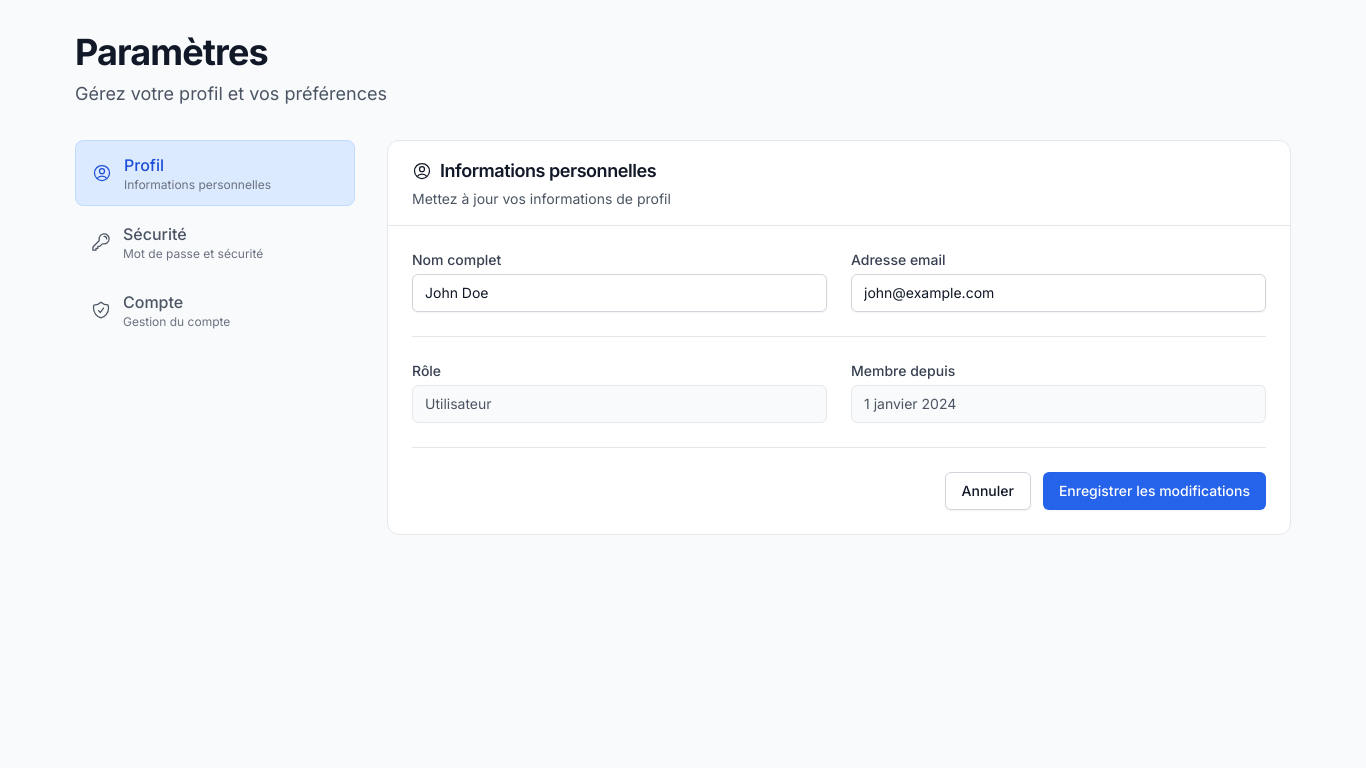
Test: SettingsPage › Onglet Sécurité › affiche le formulaire de changement de mot de passe
// Cliquer sur l'onglet Sécurité
What coordinates should you click on to do the following:
click the text "Sécurité"
I would click on:
 (155, 234)
Its box is [123,224,187,244].
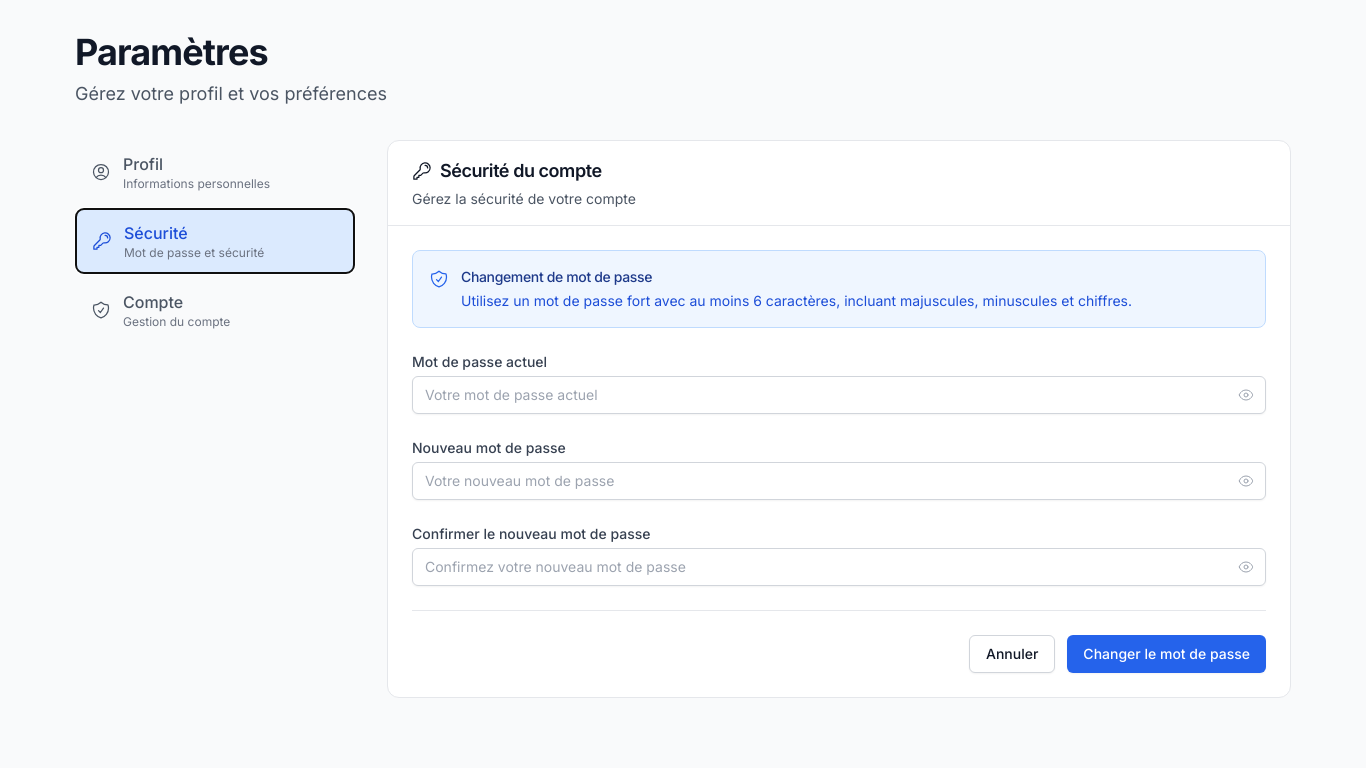
Now the heading "Sécurité du compte" is shown, box [412,160,602,181]
Now the heading "Changement de mot de passe" is shown, box [461,268,652,285]
Now the password field with placeholder "Votre mot de passe actuel" is shown, box [412,376,1266,414]
